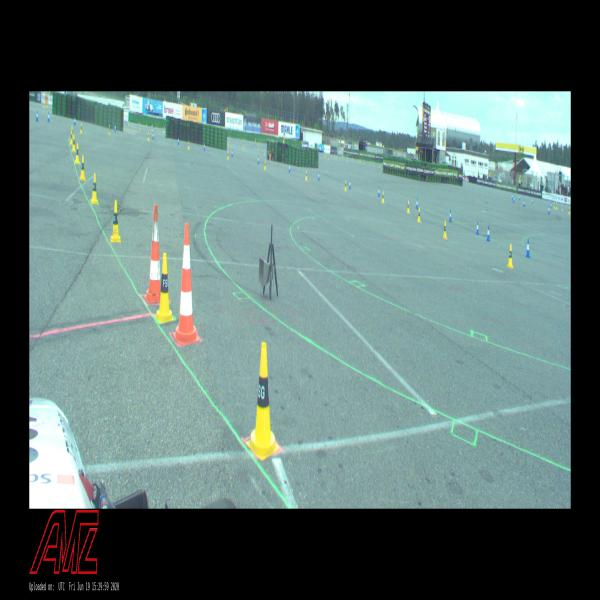blue_cone: (526, 238, 530, 258), (486, 226, 490, 241), (476, 221, 479, 235), (449, 210, 452, 222), (114, 124, 117, 132), (36, 110, 38, 121), (48, 112, 50, 122), (416, 199, 418, 209), (349, 179, 351, 188), (378, 187, 380, 196), (548, 206, 550, 215), (74, 117, 76, 125), (152, 132, 154, 140), (288, 164, 290, 172), (318, 172, 320, 180), (178, 137, 179, 145)
large_orange_cone: (173, 223, 199, 344), (144, 205, 161, 303)
yellow_cone: (246, 342, 280, 460), (155, 253, 174, 323), (111, 200, 121, 242), (91, 174, 98, 204), (79, 155, 86, 181), (507, 244, 514, 268), (75, 144, 80, 164), (443, 220, 447, 239), (72, 135, 76, 151), (417, 208, 421, 222), (407, 201, 410, 213), (80, 123, 83, 134), (70, 131, 72, 144), (382, 191, 384, 203), (264, 160, 266, 170), (306, 170, 308, 180), (344, 181, 346, 191), (148, 132, 150, 141), (108, 126, 110, 134), (188, 141, 190, 149), (227, 151, 229, 159), (556, 202, 558, 210), (568, 207, 570, 214), (72, 126, 73, 138)
